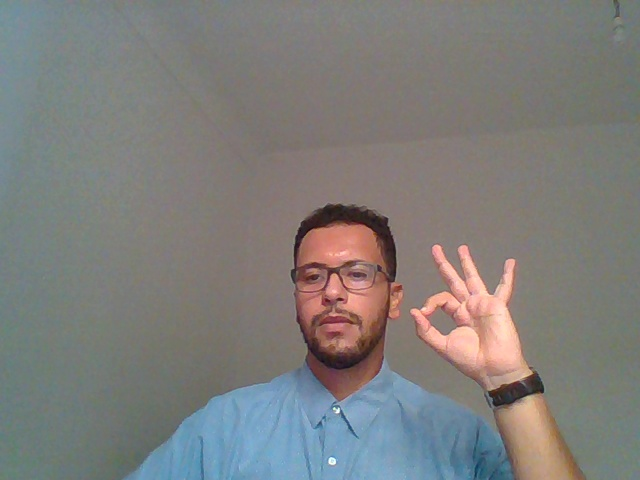okay: (405, 229, 560, 437)
